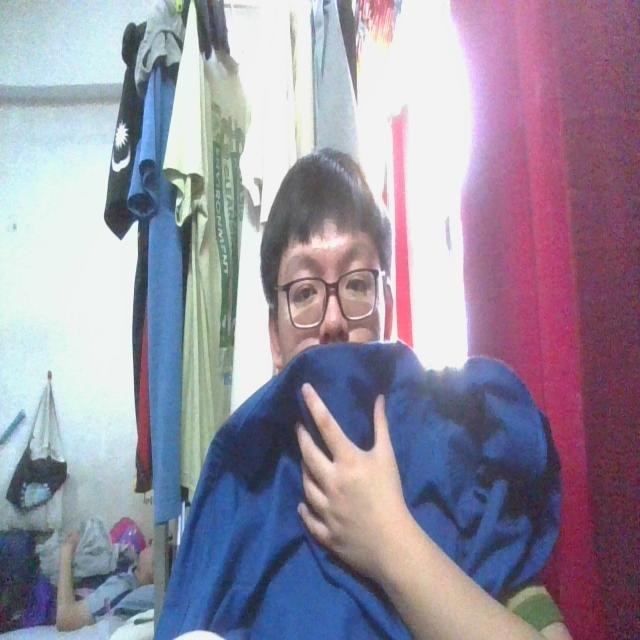person_without_labcoat: (156, 150, 570, 639)
